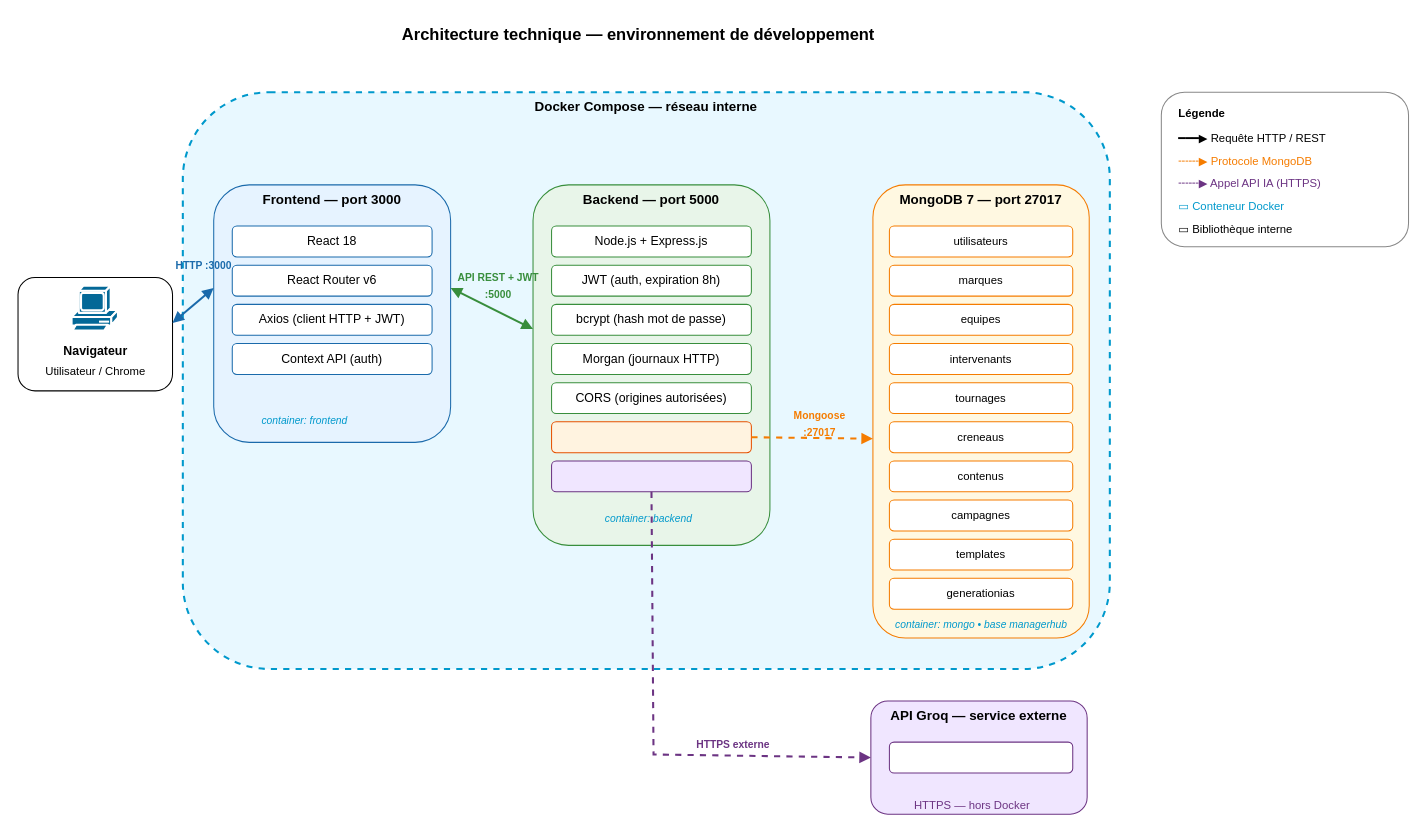
This 1427x832 diagram has some shape labels left out. The centre of each missing label's shape, as x and y in pixels:
"llama-3.3-70b-versatile" belongs at (980,757).
"Module IA (client Groq)" belongs at (651,476).
"Mongoose ODM" belongs at (651,437).
